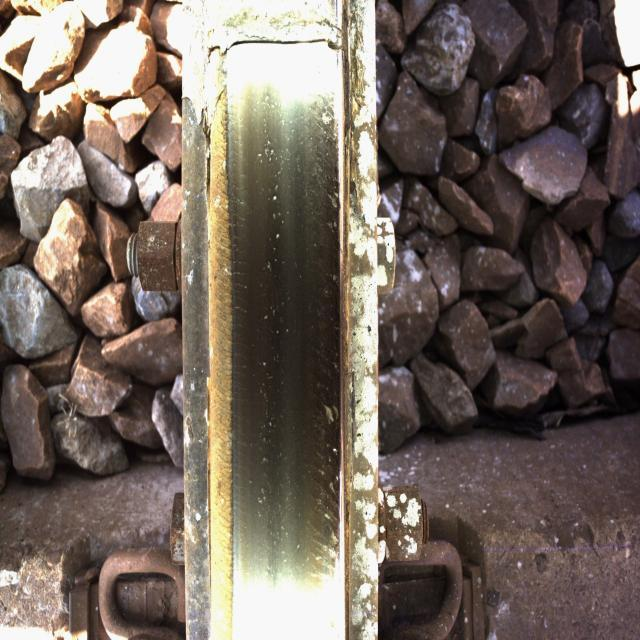crack: (295, 378, 343, 598)
spalling: (201, 0, 361, 88)
